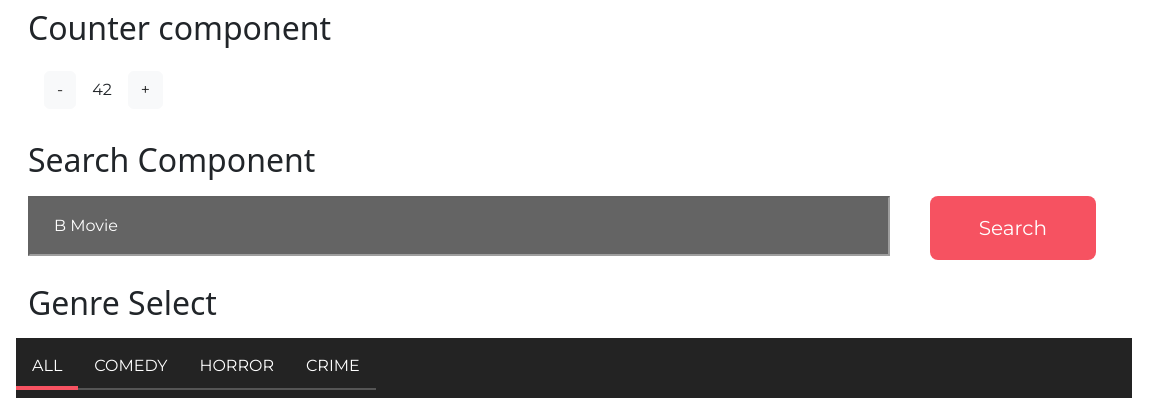
Test: template spec › Counter › increment value on inc-button click
Check: the text with test id "val" reads "42", box top-left (92, 80), bottom-right (112, 99)
What coordinates should you click on to do the following:
click the button with test id "inc-button"
I would click on:
 (146, 90)
Its box is top-left (128, 71), bottom-right (163, 109).
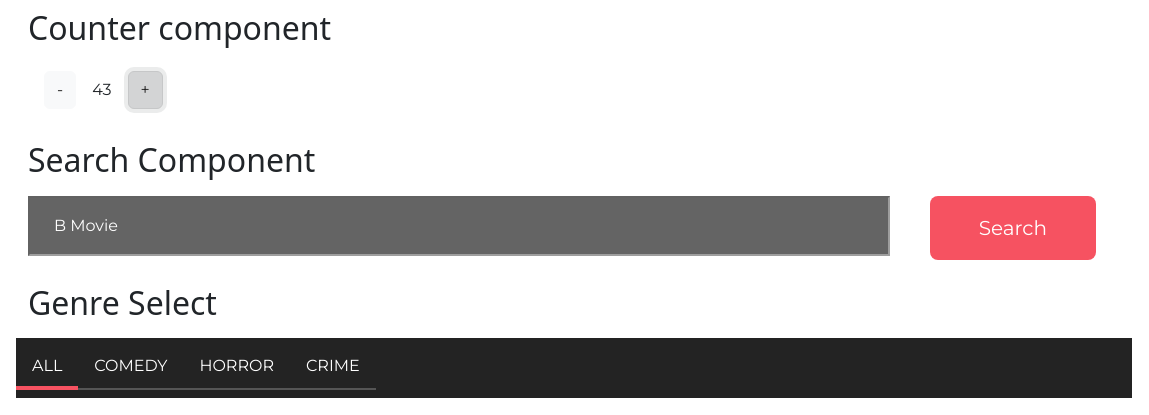
Check: the text with test id "val" reads "43", box top-left (92, 80), bottom-right (111, 99)
